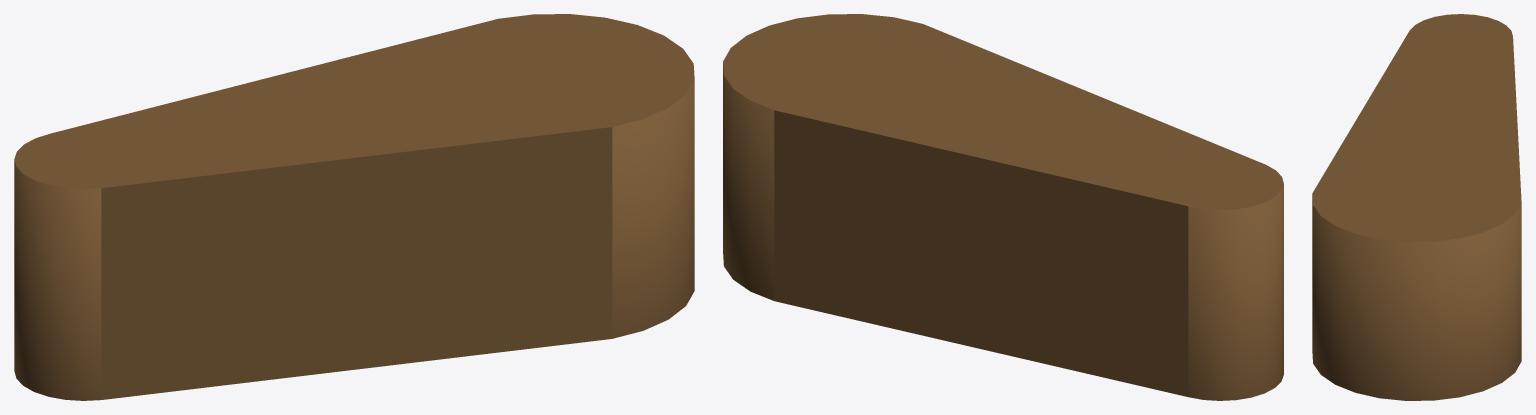
The model's file is Sponge.fbx.
3 renders of one model, left to right at view 1: azimuth 30°, elevation 25°; view 2: azimuth 150°, elevation 25°; view 3: azimuth 270°, elevation 25°, orthographic. The views are drawn at different scales.
Parts seen in each view (by area): view 1: Sponge; view 2: Sponge; view 3: Sponge.
Boxes of the visible parts, box(x1,y1,x2,y2) form: Sponge: box(14, 14, 694, 400); Sponge: box(723, 14, 1283, 400); Sponge: box(1312, 14, 1521, 400).
Bounding box in the file's own units: 39.11 × 12.7 × 15.16.
